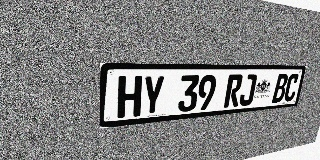3: (178, 75, 200, 112)
9: (196, 75, 217, 110)
B: (271, 74, 289, 103)
C: (283, 74, 300, 102)
H: (117, 76, 143, 118)
J: (238, 74, 258, 106)
R: (224, 74, 244, 108)
Y: (141, 75, 165, 116)
